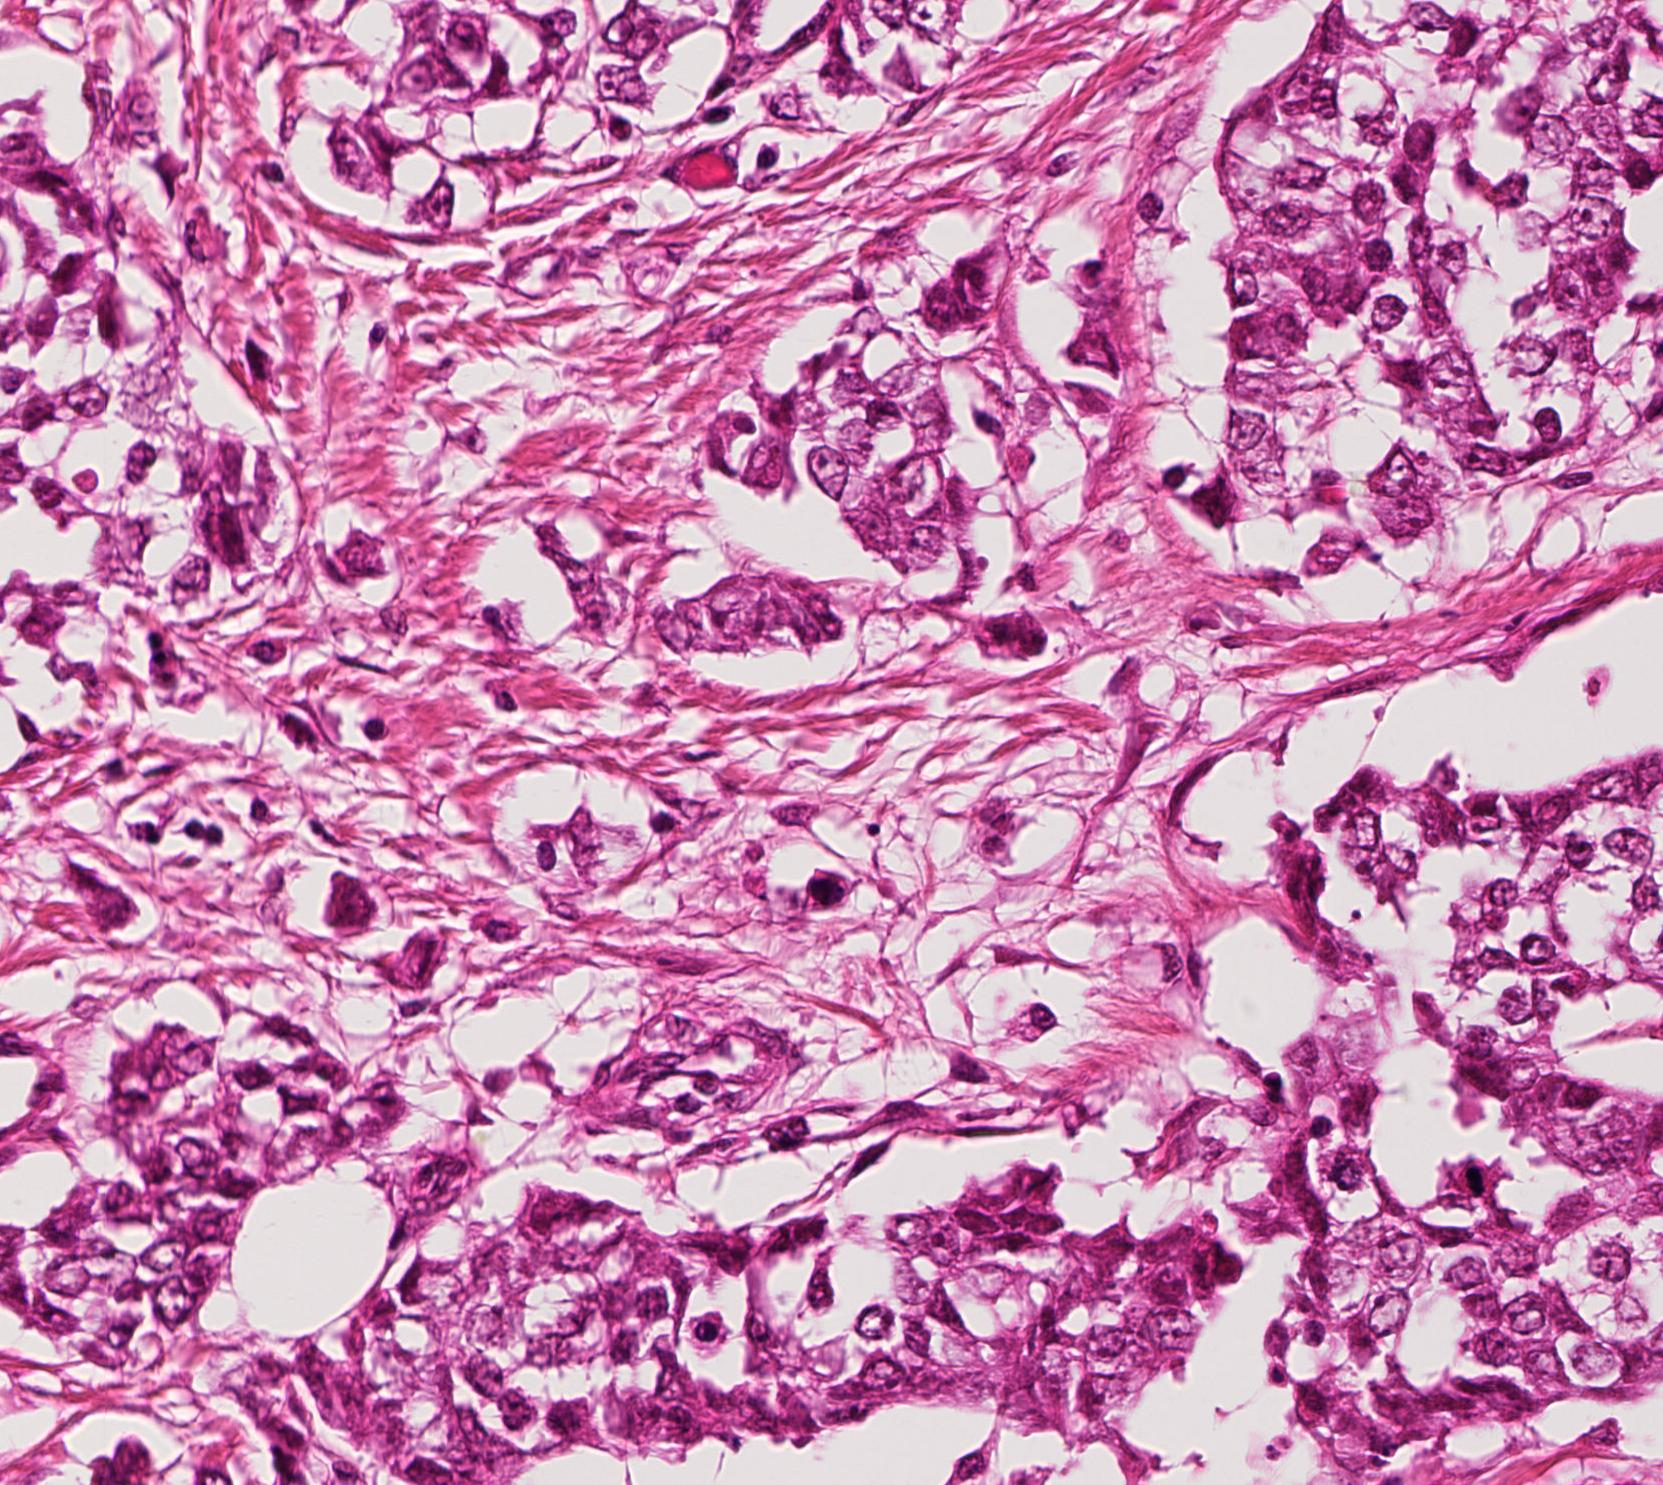mitosis: (1438, 1144, 1498, 1204)
